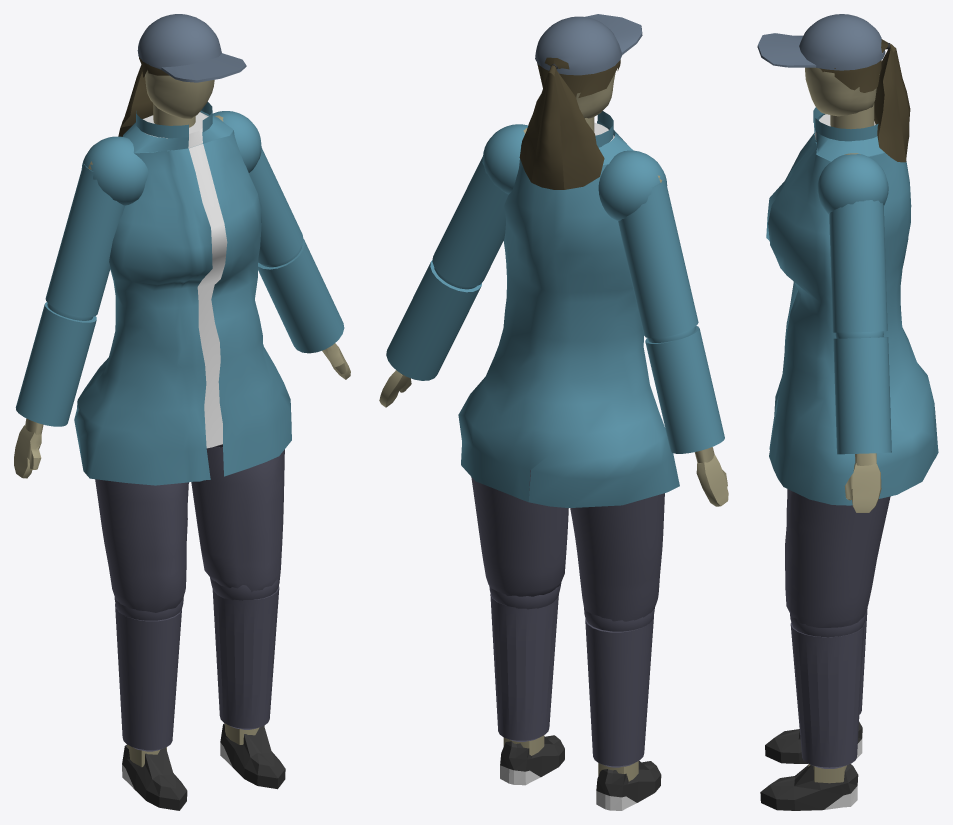
The model's file is women with blue coat.fbx.
3 views of the same model, side by side, from view 1: azimuth 30°, elevation 25°; view 2: azimuth 150°, elevation 25°; view 3: azimuth 270°, elevation 25° (orthographic). The views are drawn at different scales.
Visible parts, largest first — view 1: pCylinder1, pCylinder32, pCylinder4, pCylinder3, pCylinder33, pCylinder22, pCylinder21, pSphere17, pCylinder5, pSphere19, pCube11, pCube12 (+7 smaller); view 2: pCylinder1, pCylinder32, pCylinder33, pCylinder4, pCylinder3, pCylinder22, pCylinder21, pCube10, pSphere17, pSphere19, pCube11, pCube12 (+5 smaller); view 3: pCylinder1, pCylinder33, pCylinder3, pCylinder21, pSphere17, pCube12, pSphere18, pCube10, pSphere7, pCube11, pCylinder7, pSphere14 (+4 smaller).
Part boxes in pixels (bbox=[...]): pCylinder1: bbox=[74, 130, 291, 485]; pCylinder32: bbox=[14, 164, 124, 478]; pCylinder4: bbox=[95, 479, 188, 612]; pCylinder3: bbox=[191, 446, 284, 592]; pCylinder33: bbox=[249, 148, 350, 379]; pCylinder22: bbox=[115, 604, 181, 751]; pCylinder21: bbox=[212, 586, 279, 729]; pSphere17: bbox=[137, 14, 246, 82]; pCylinder5: bbox=[189, 144, 227, 448]; pSphere19: bbox=[81, 136, 148, 205]; pCube11: bbox=[122, 744, 187, 810]; pCube12: bbox=[220, 723, 285, 789]; pCylinder1: bbox=[458, 142, 679, 507]; pCylinder32: bbox=[618, 180, 728, 506]; pCylinder33: bbox=[379, 156, 508, 407]; pCylinder4: bbox=[570, 493, 664, 621]; pCylinder3: bbox=[471, 470, 568, 596]; pCylinder22: bbox=[585, 616, 653, 767]; pCylinder21: bbox=[490, 594, 558, 741]; pCube10: bbox=[519, 65, 604, 189]; pSphere17: bbox=[535, 14, 642, 75]; pSphere19: bbox=[598, 150, 667, 220]; pCube11: bbox=[596, 761, 661, 810]; pCube12: bbox=[500, 735, 564, 785]; pCylinder1: bbox=[766, 133, 938, 505]; pCylinder33: bbox=[829, 200, 891, 512]; pCylinder3: bbox=[785, 490, 890, 627]; pCylinder21: bbox=[790, 623, 864, 768]; pSphere17: bbox=[757, 14, 885, 70]; pCube12: bbox=[760, 764, 858, 810]; pSphere18: bbox=[817, 154, 888, 214]; pCube10: bbox=[874, 43, 910, 162]; pSphere7: bbox=[805, 67, 879, 116]; pCube11: bbox=[765, 721, 862, 763]; pCylinder7: bbox=[814, 114, 883, 161]; pSphere14: bbox=[819, 39, 888, 92].
Bounding box in the file's own units: 10.34 × 22.61 × 4.91.
